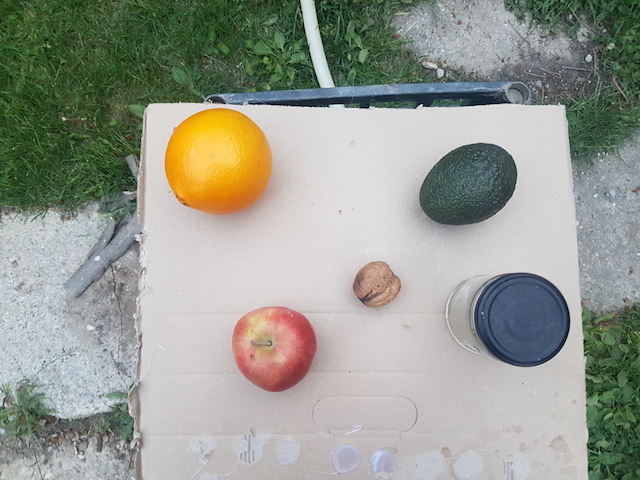apple: (233, 305, 320, 392)
avocado: (420, 139, 520, 229)
nut: (353, 258, 402, 310)
orange: (165, 105, 275, 220)
recipient: (477, 270, 570, 367)
